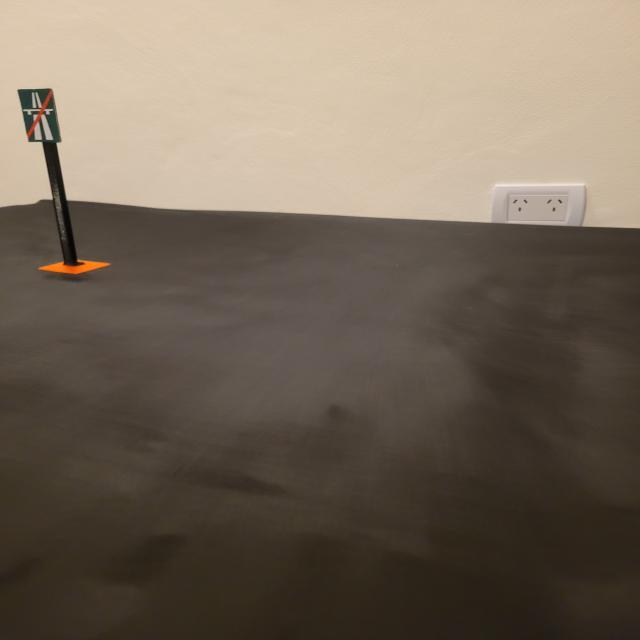highway_exit: (14, 88, 62, 143)
